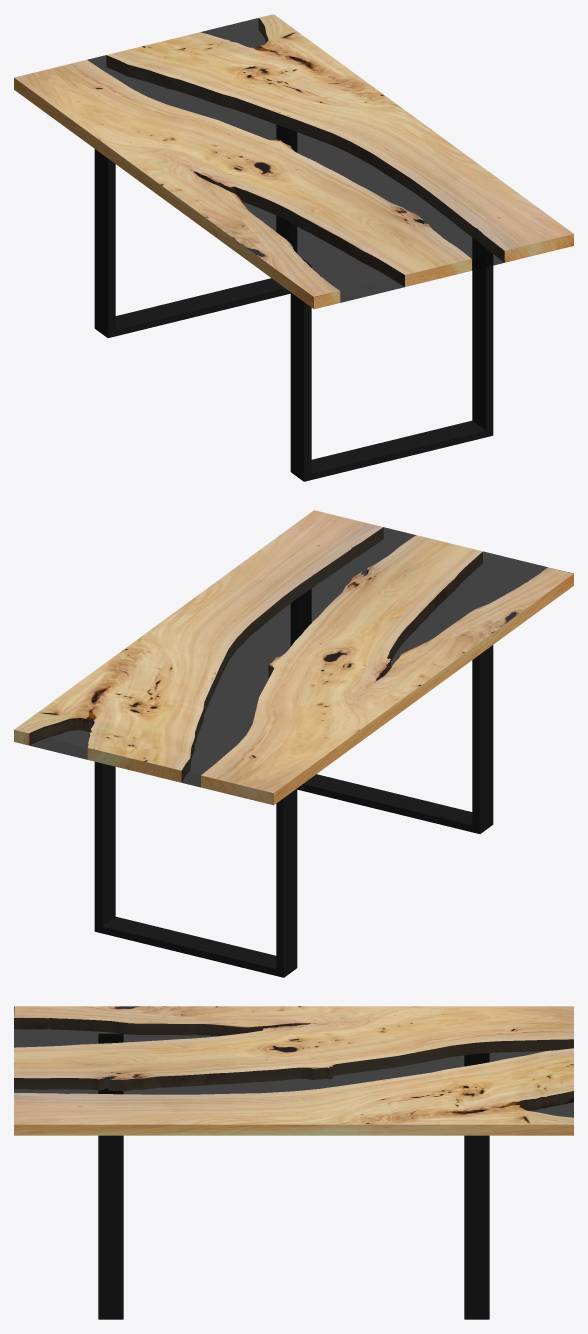
The model's file is table.glb.
3 views of the same model, one above another, from view 1: azimuth 30°, elevation 25°; view 2: azimuth 150°, elevation 25°; view 3: azimuth 270°, elevation 25° (orthographic). The views are drawn at different scales.
Parts seen in each view (by area): view 1: table_for_Lil, Cube; view 2: table_for_Lil, Cube; view 3: table_for_Lil, Cube.
Boxes of the visible parts, x1,y1,x2,y2 form: table_for_Lil: (14, 14, 573, 309); Cube: (94, 125, 493, 481); table_for_Lil: (14, 510, 573, 805); Cube: (94, 589, 493, 977); table_for_Lil: (14, 1006, 573, 1135); Cube: (98, 1034, 489, 1319).
Size of the model in its own units: 0.4 by 0.3333 by 0.8.
Materials: 3 (1 with a texture image).
